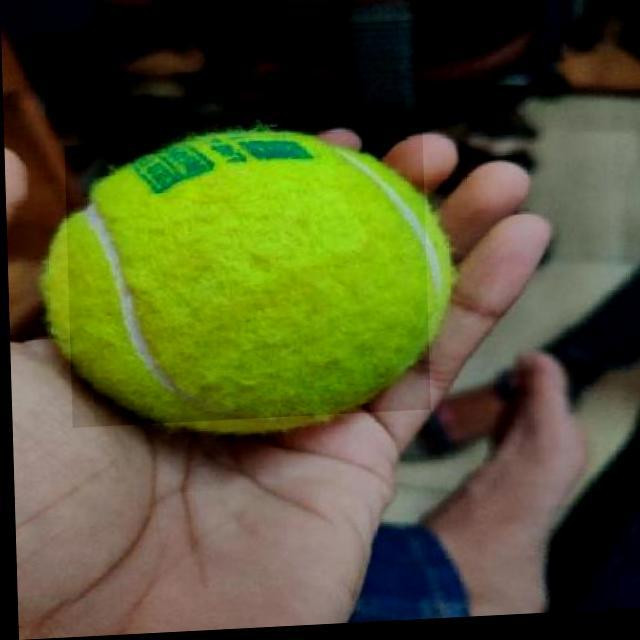-: (63, 132, 428, 429)
